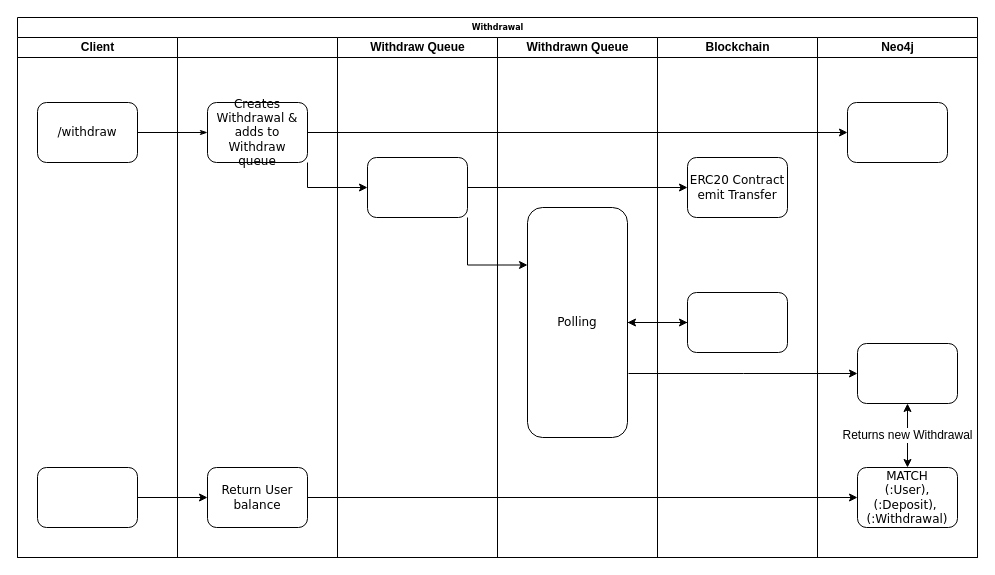
The diagram is 995 pixels wide and 575 high, and some of its shapes have lost their labels. Here are the shapes that lost their labels. From the top down, the box of each, then its label:
(846, 102, 948, 162): CREATE (:Withdrawal)
(366, 156, 468, 218): Sign transfer & adds to Withdrawn queue
(176, 36, 338, 558): API
(686, 292, 788, 352): Event found
(856, 342, 958, 404): UPDATE (:Withdrawal)
(36, 466, 138, 528): /me
